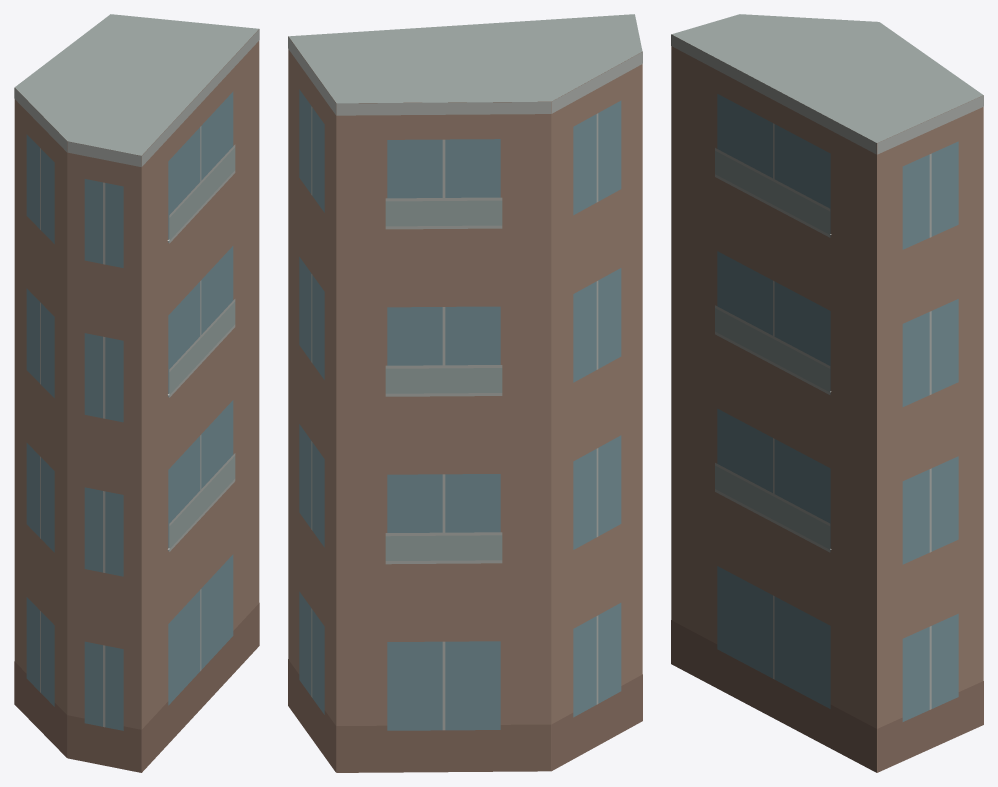
File: survey-upis-32464692.glb
The picture shows the model from 3 angles, left to right: view 1: azimuth 30°, elevation 25°; view 2: azimuth 150°, elevation 25°; view 3: azimuth 270°, elevation 25°; orthographic projection. The views are drawn at different scales.
Visible parts, largest first — view 1: survey-upis-32464692.tmp; view 2: survey-upis-32464692.tmp; view 3: survey-upis-32464692.tmp.
Part boxes in pixels (x1,y1,x2,y2): survey-upis-32464692.tmp: (14,14,259,772); survey-upis-32464692.tmp: (288,14,642,772); survey-upis-32464692.tmp: (671,14,983,772).
Size of the model in its own units: 5.81 by 13.2 by 5.94.
